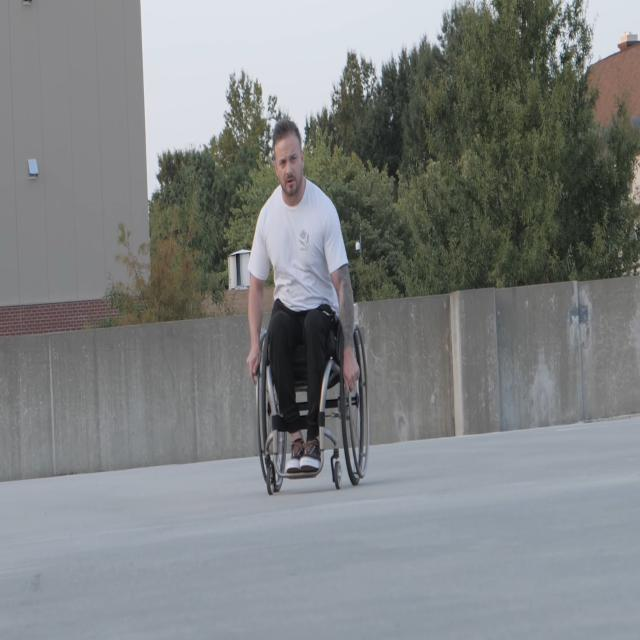wheelchairs: (254, 268, 368, 497)
